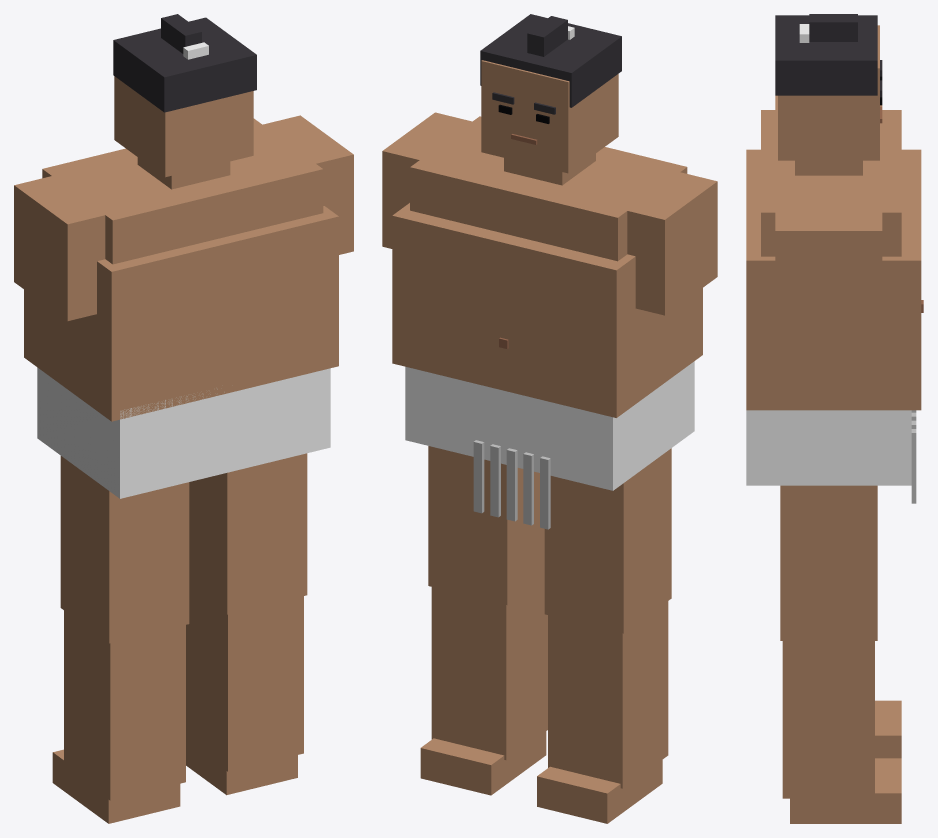
The model's file is SUMO.gltf.
3 views of the same model, side by side, from view 1: azimuth 30°, elevation 25°; view 2: azimuth 150°, elevation 25°; view 3: azimuth 270°, elevation 25° (orthographic).
Visible parts, largest first — view 1: SUMO; view 2: SUMO; view 3: SUMO.
Part boxes in pixels (left/top/right/bottom): SUMO: left=14, top=14, right=353, bottom=823; SUMO: left=382, top=14, right=717, bottom=823; SUMO: left=746, top=14, right=923, bottom=823.
Size of the model in its own units: 0.68 by 1.73 by 0.365.
